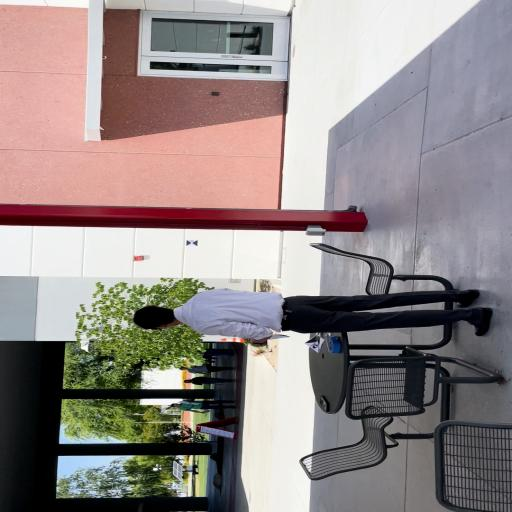target6: (186, 239, 198, 246)
